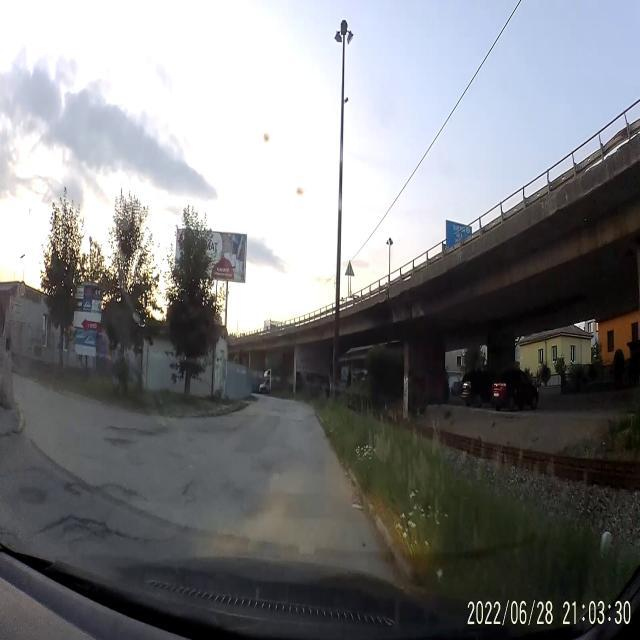Manhole: (16, 482, 49, 507)
Pothole: (66, 474, 146, 504), (36, 520, 118, 545), (104, 424, 168, 438), (104, 436, 140, 452)
